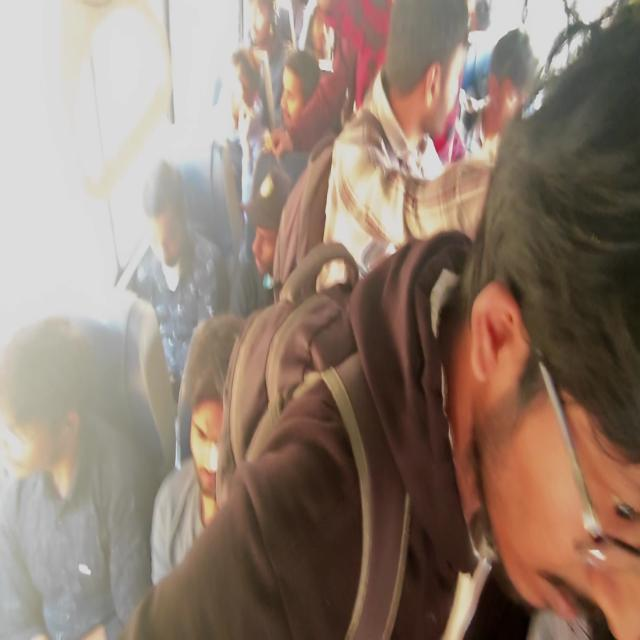person: (118, 6, 639, 636), (436, 9, 639, 637), (317, 0, 493, 292), (0, 315, 150, 638), (149, 312, 246, 586), (125, 158, 230, 400), (231, 148, 293, 315), (468, 26, 538, 162)
